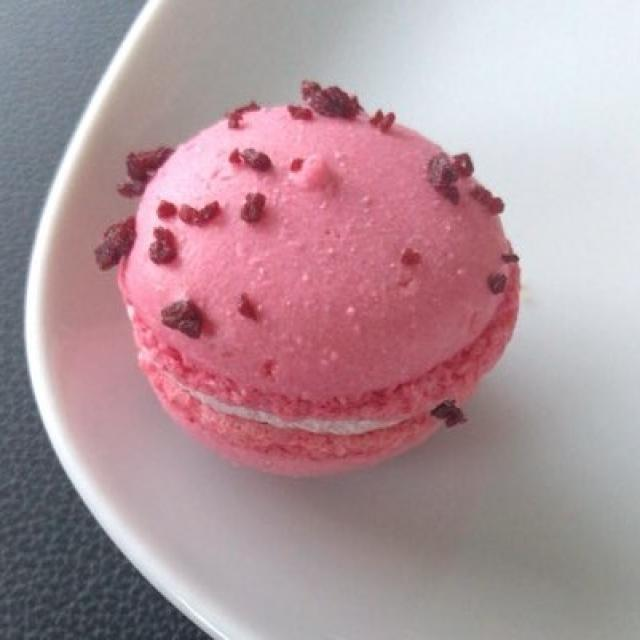macaroon: (105, 98, 515, 465)
